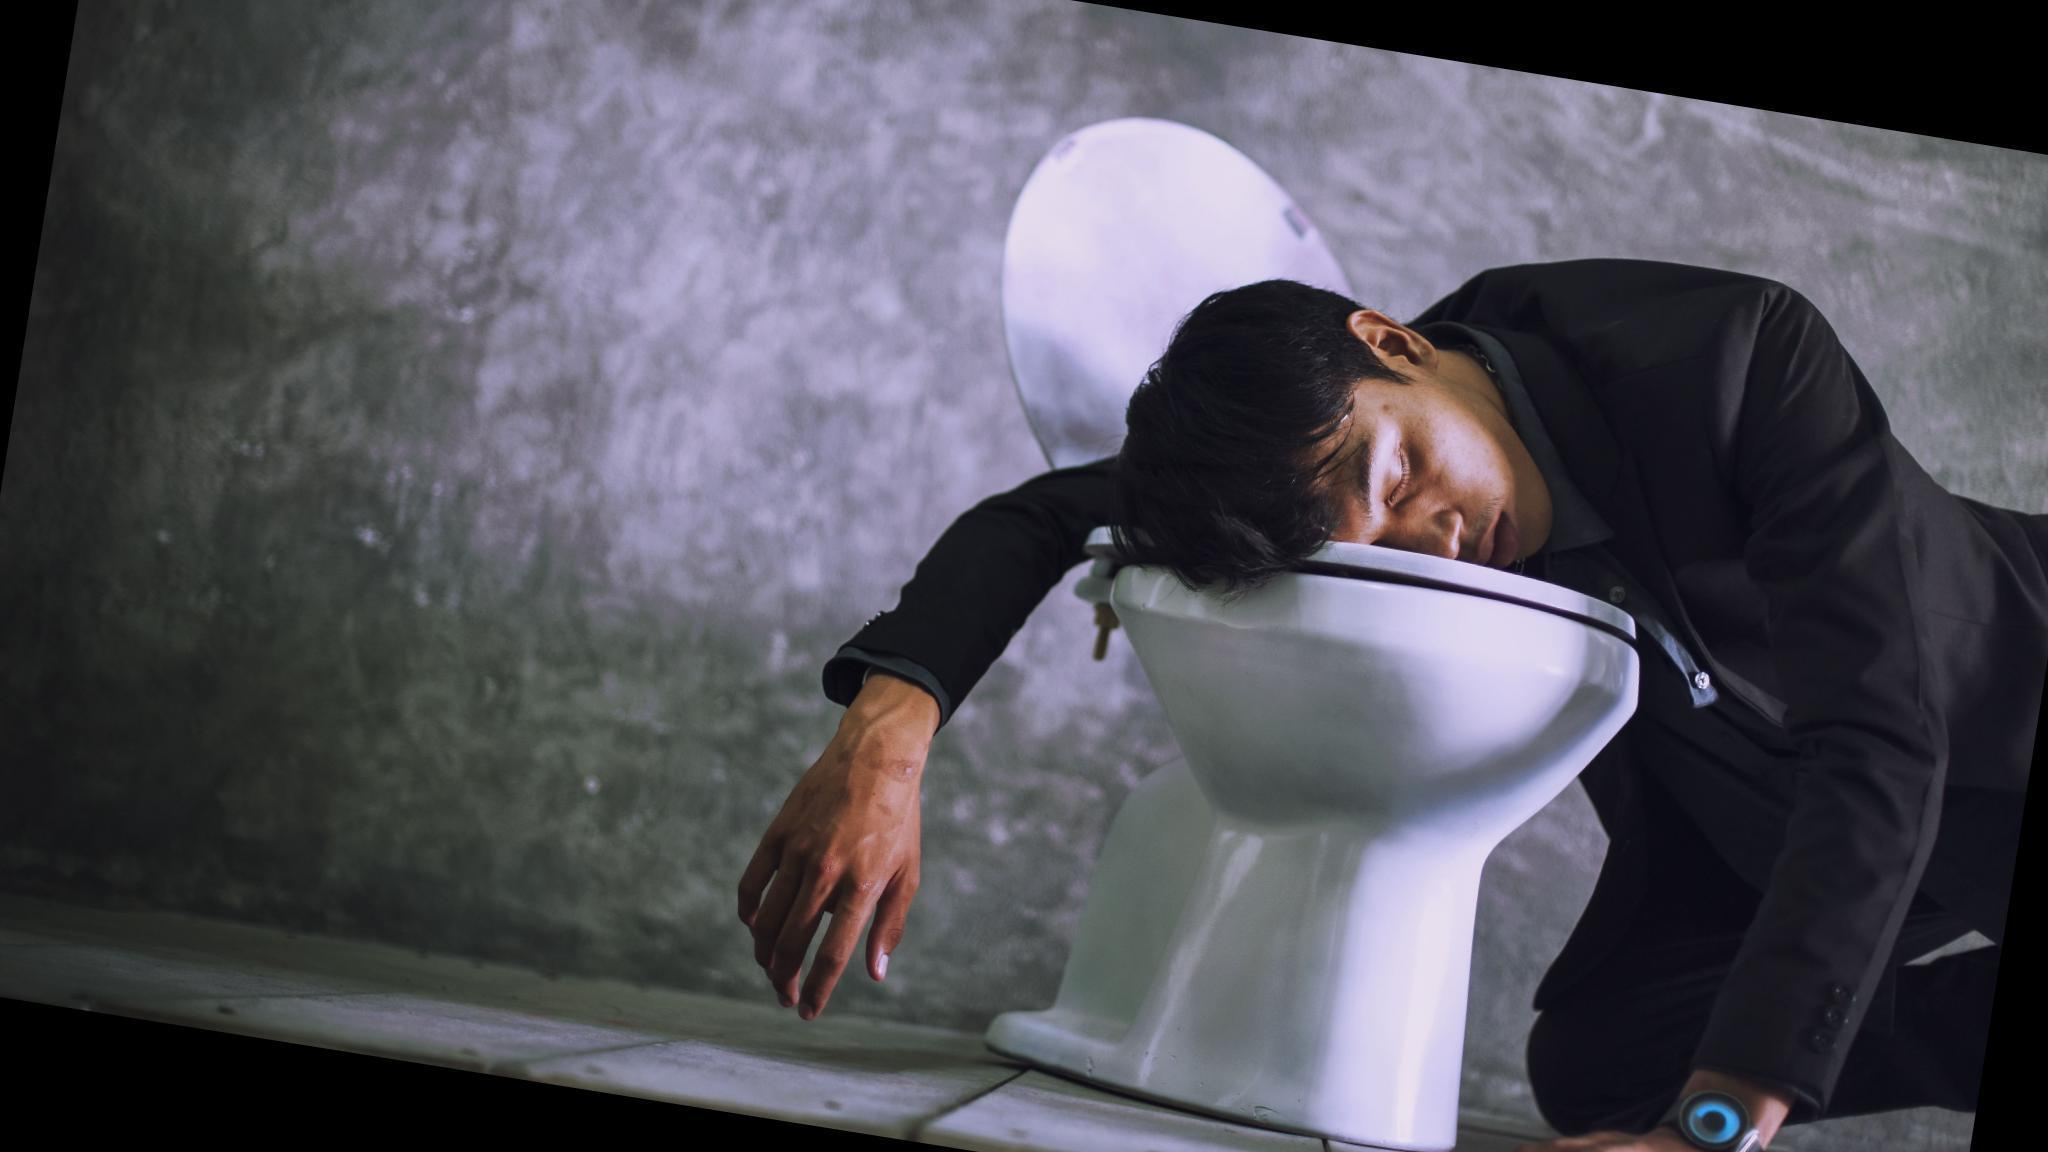Drunk: (1291, 378, 1556, 563)
